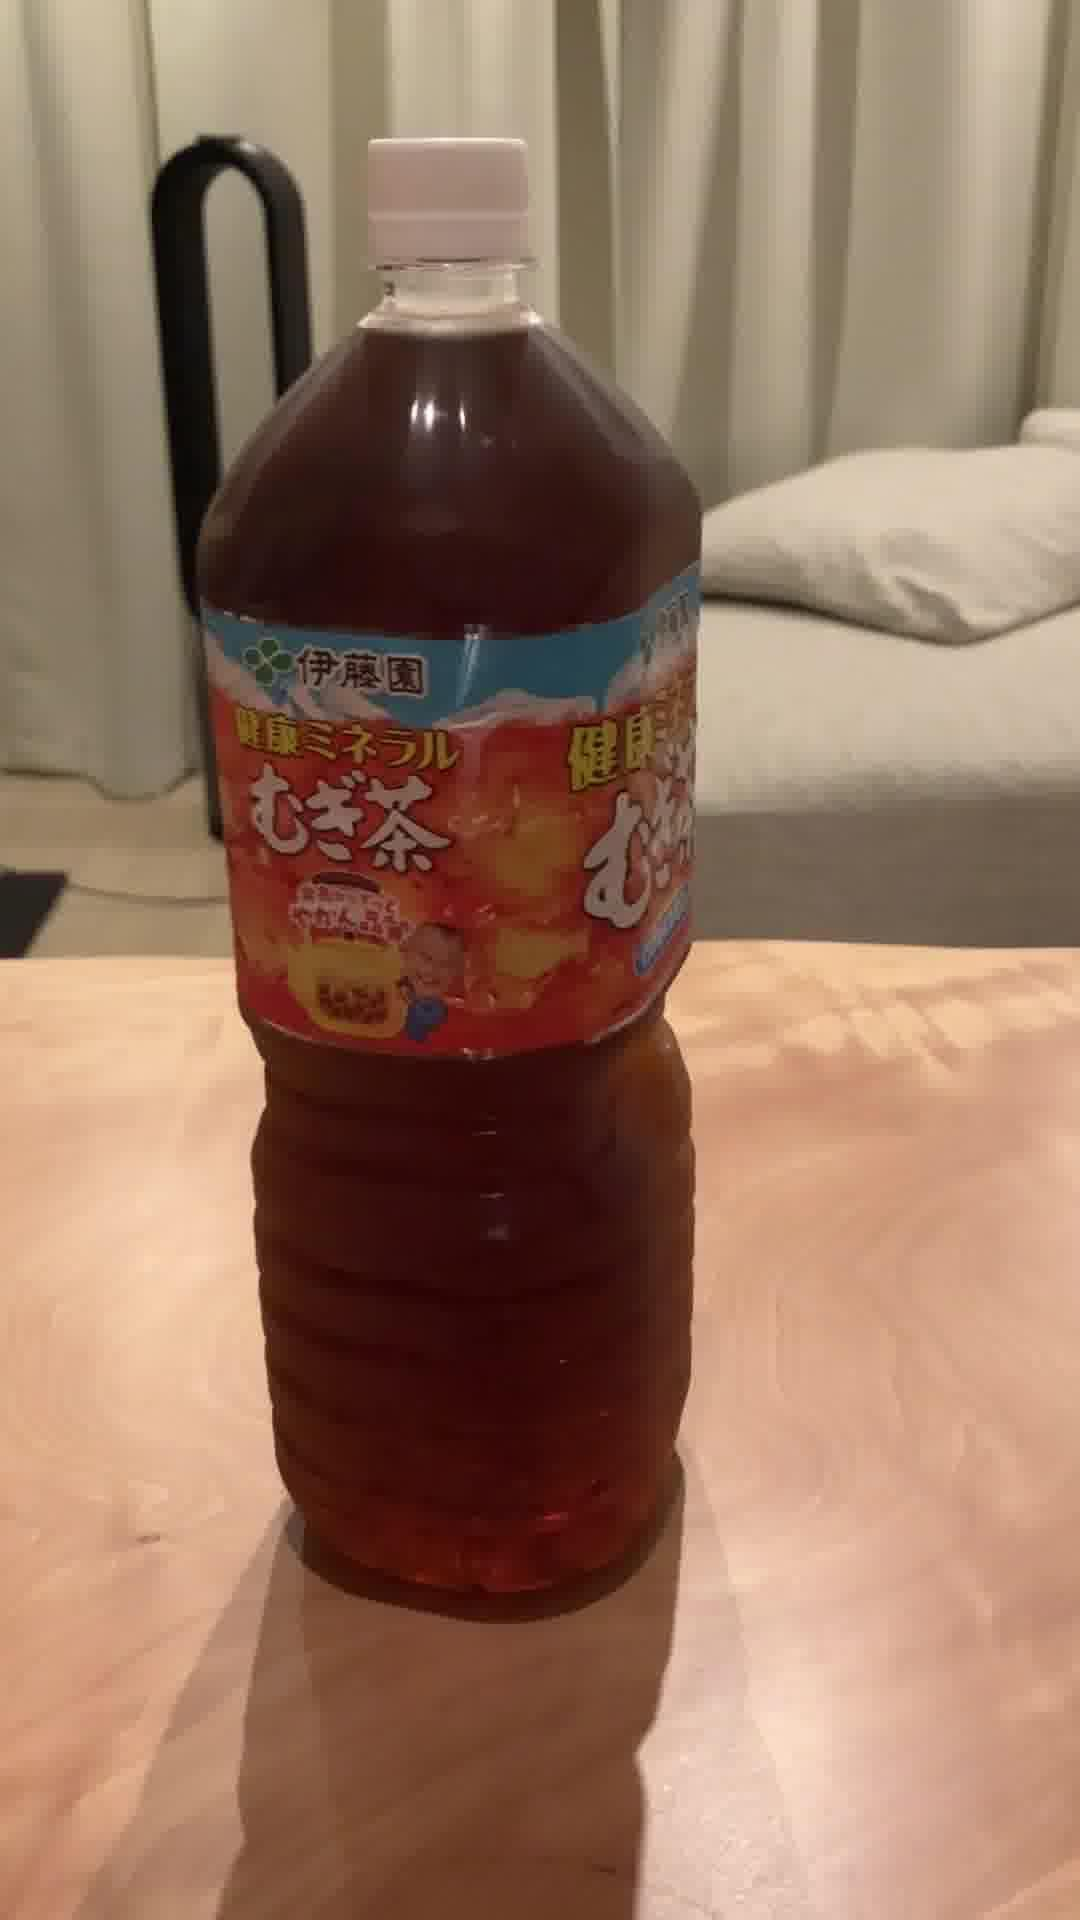BIODEGRADABLE: (188, 124, 710, 1614)
